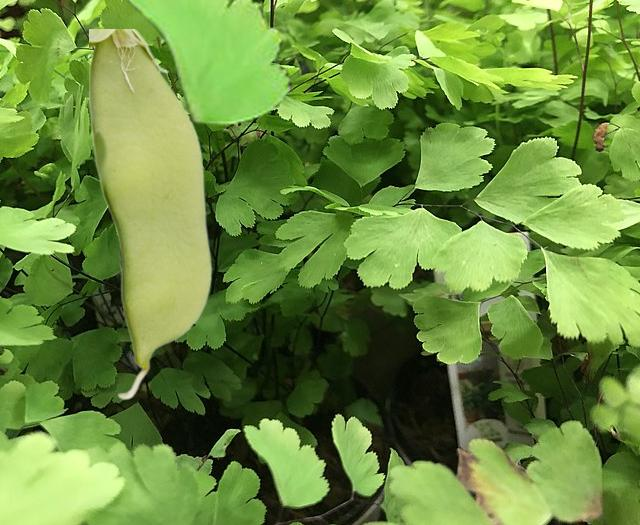pea: (89, 29, 211, 399)
